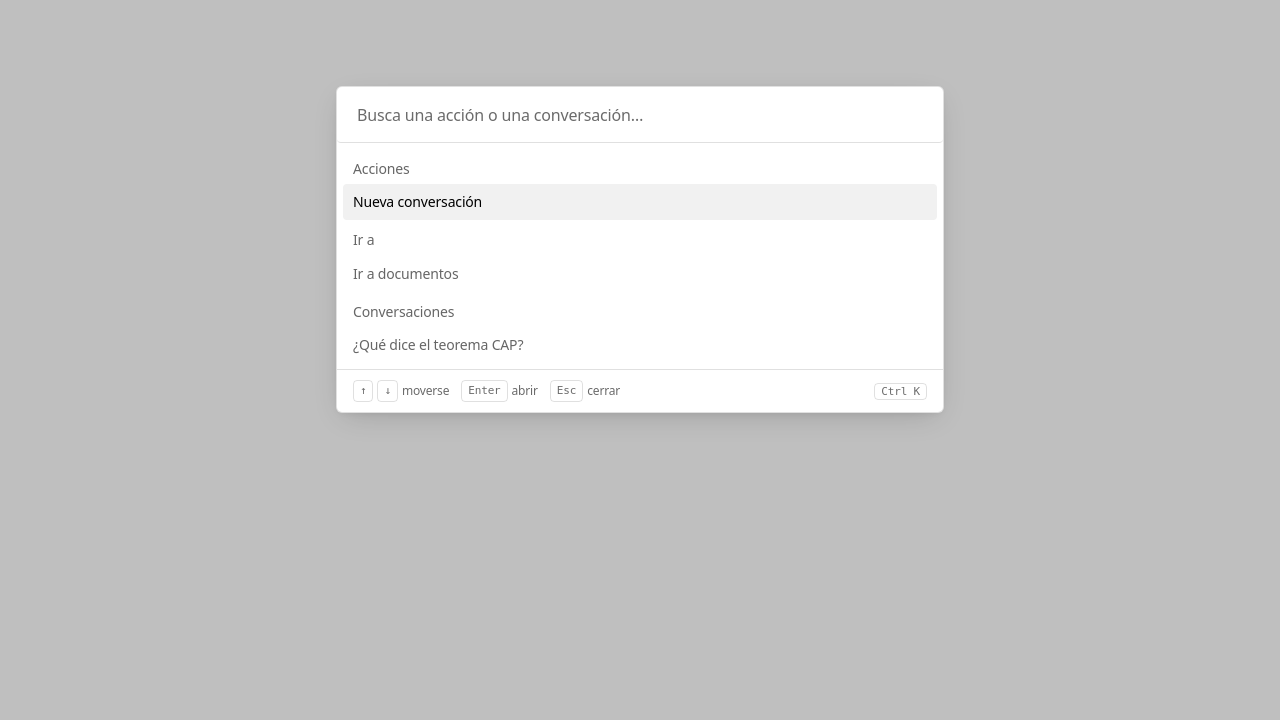
PaletaComandos › avisa cuando nada coincide
This screenshot has width=1280, height=720.
Type "xyzzy" into the dropdown at [640, 115], box [337, 87, 943, 143]
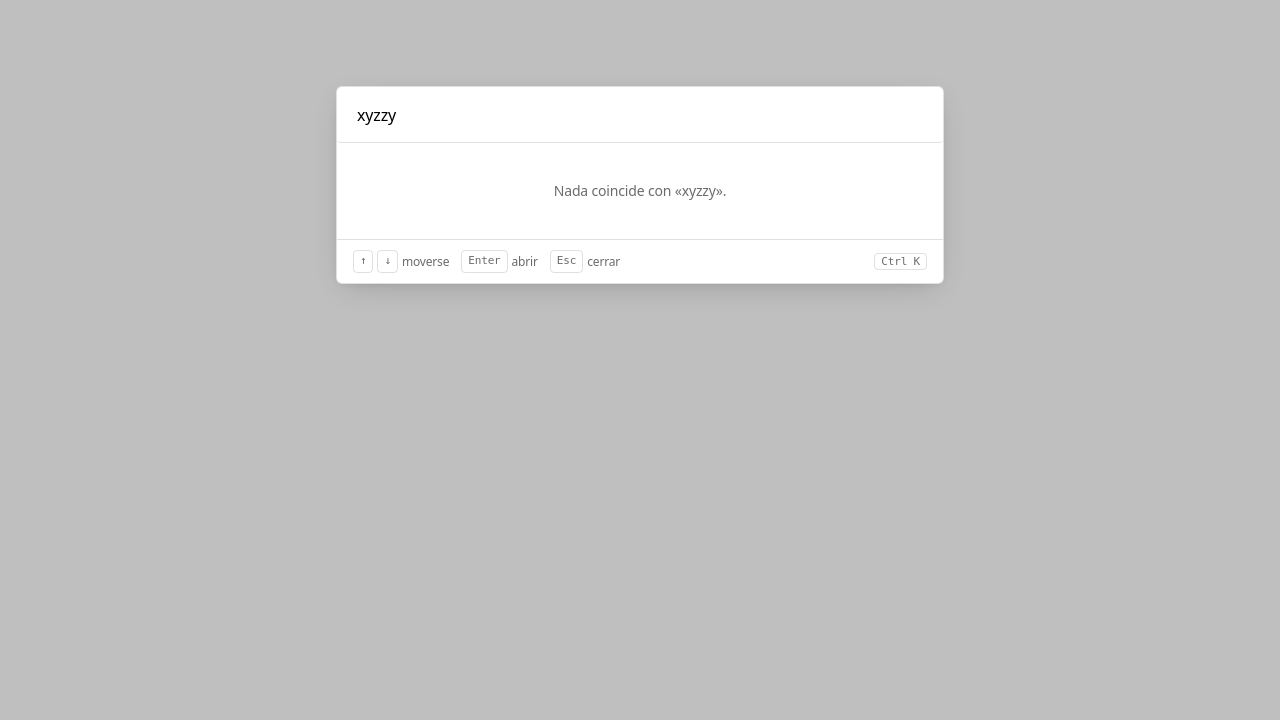
Check: no options are shown
Check: the text "Nada coincide con «xyzzy»." is shown, box [554, 181, 726, 200]
